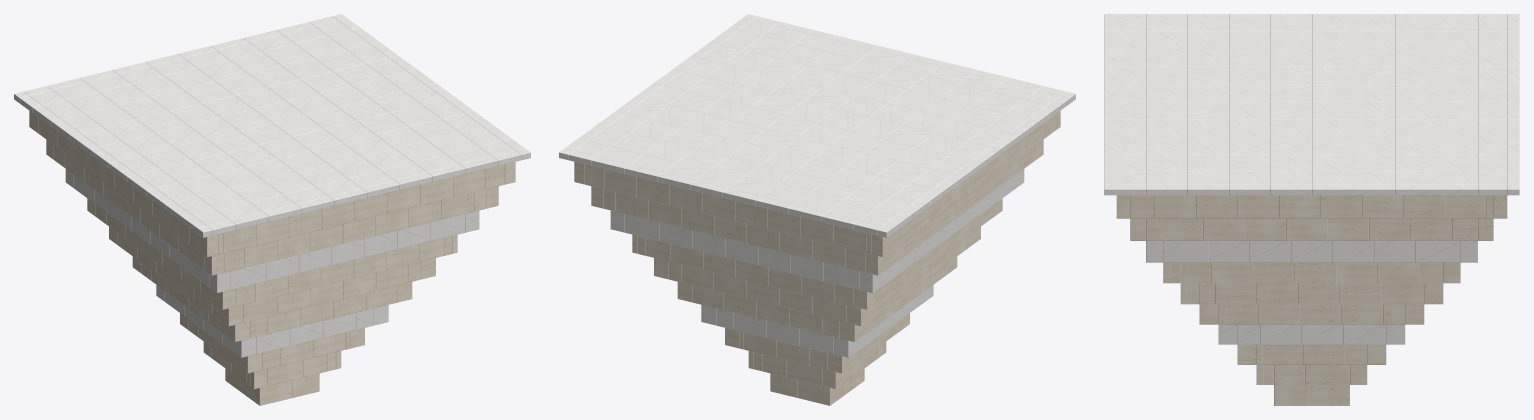
The picture shows the model from 3 angles, left to right: view 1: azimuth 30°, elevation 25°; view 2: azimuth 150°, elevation 25°; view 3: azimuth 270°, elevation 25°; orthographic projection. The views are drawn at different scales.
Parts seen in each view (by area): view 1: Mesh_isle_base; view 2: Mesh_isle_base; view 3: Mesh_isle_base.
Part boxes in pixels (x1,y1,x2,y2): Mesh_isle_base: (14,14,530,405); Mesh_isle_base: (559,14,1075,405); Mesh_isle_base: (1104,14,1519,405).
Bounding box in the file's own units: 24 × 18.4 × 24.
Materials: 1 (1 with a texture image).
